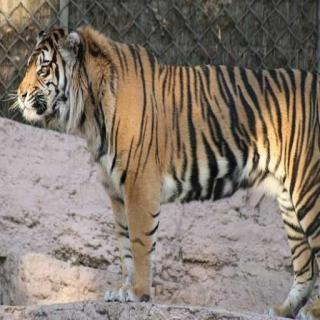Tiger: (12, 15, 320, 320)
